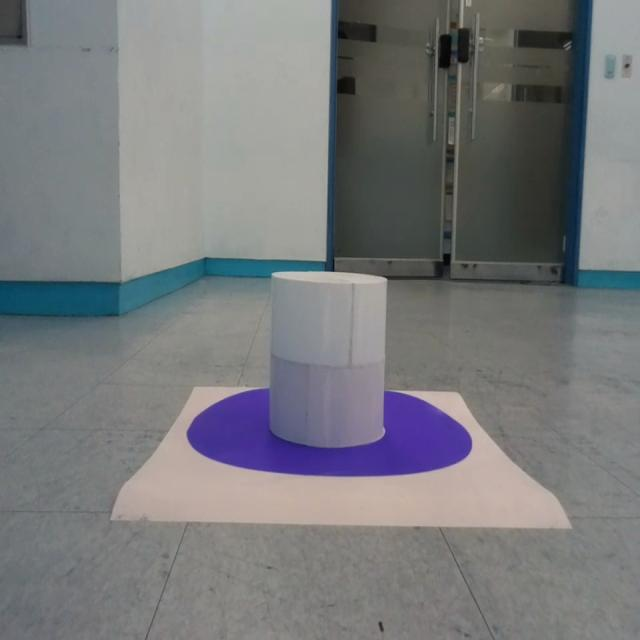cylinder: (268, 270, 387, 449)
